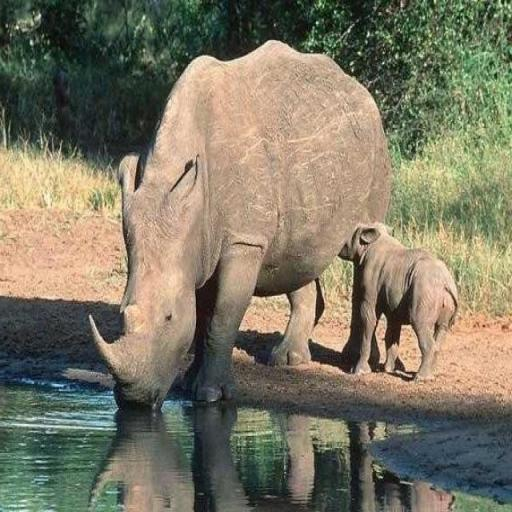Rhino: (79, 37, 393, 413), (336, 220, 458, 382)
